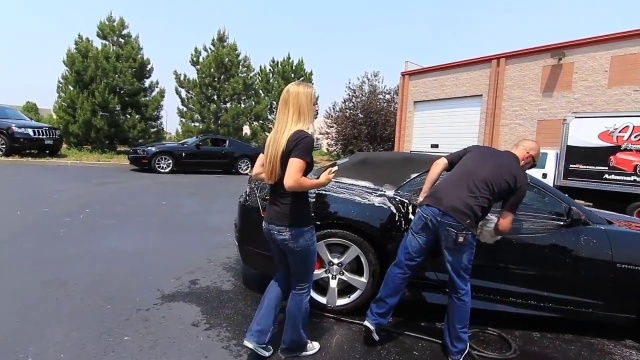person: (363, 136, 542, 358), (244, 81, 341, 360)
